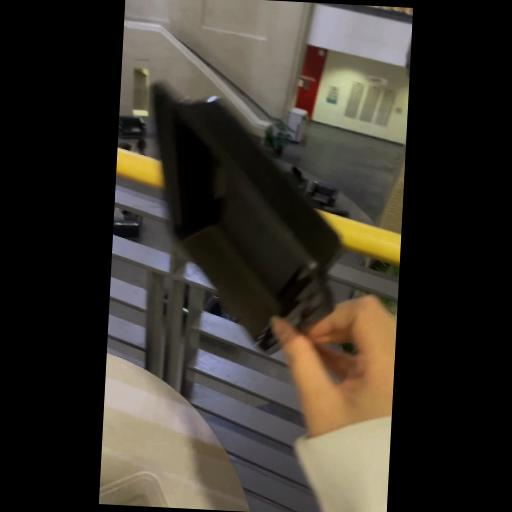rigid_plastic_container: (142, 82, 354, 352)
